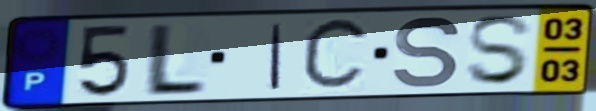5: (73, 22, 136, 99)
C: (298, 13, 374, 96)
I: (266, 22, 286, 92)
L: (138, 20, 211, 98)
S: (391, 13, 464, 91), (463, 13, 537, 89)
